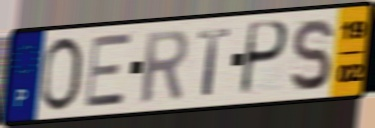E: (83, 30, 133, 110)
O: (38, 34, 84, 114)
P: (237, 19, 291, 99)
R: (139, 27, 190, 105)
S: (288, 16, 335, 94)
T: (196, 26, 233, 99)
